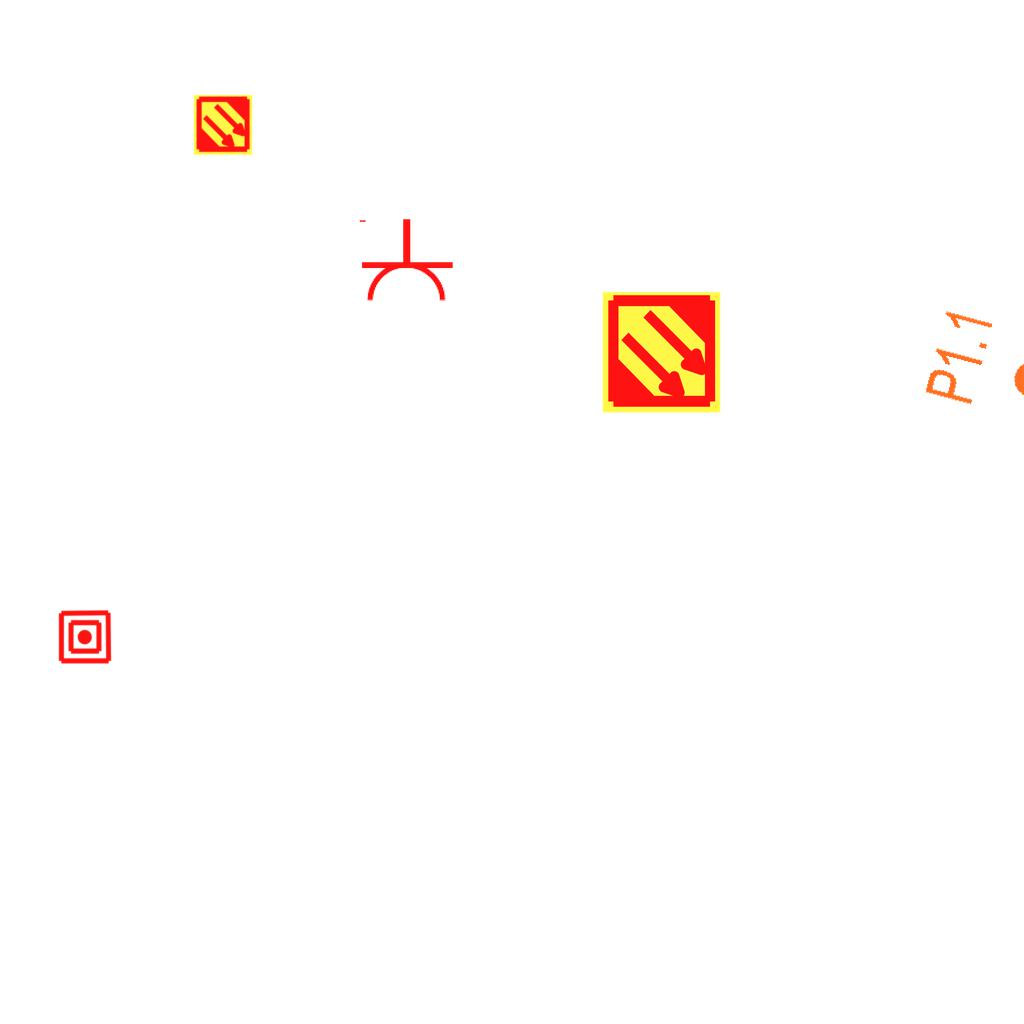ASR_Ansaugrauchmelder: (599, 290, 724, 415), (192, 94, 254, 156)
Downlight_LED_Einbauleuchten_Flur: (920, 304, 1024, 428)
NAM-Nichtautomatischer_Melder: (57, 609, 113, 665)
Schukosteckdose_einfach: (355, 217, 455, 304)
